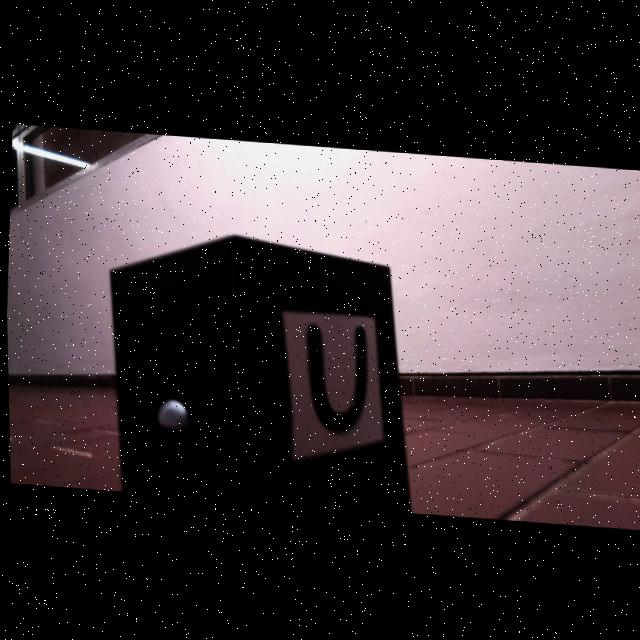U: (306, 323, 367, 431)
